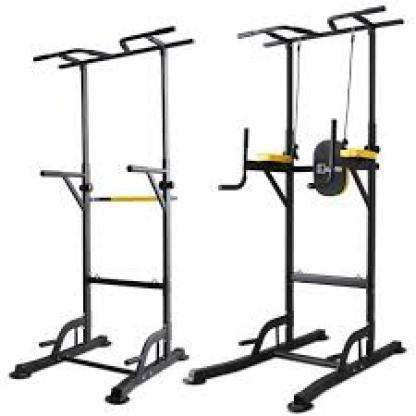chinning dipping: (9, 25, 194, 405)
